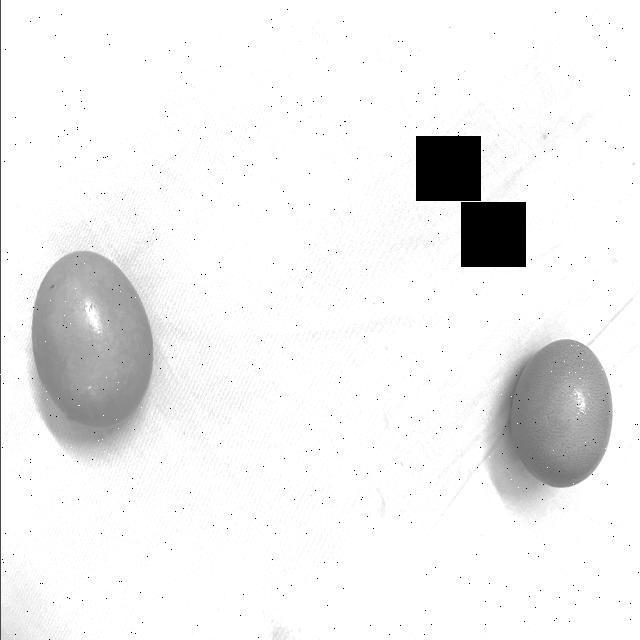egg: (29, 240, 160, 440), (508, 332, 616, 490)
